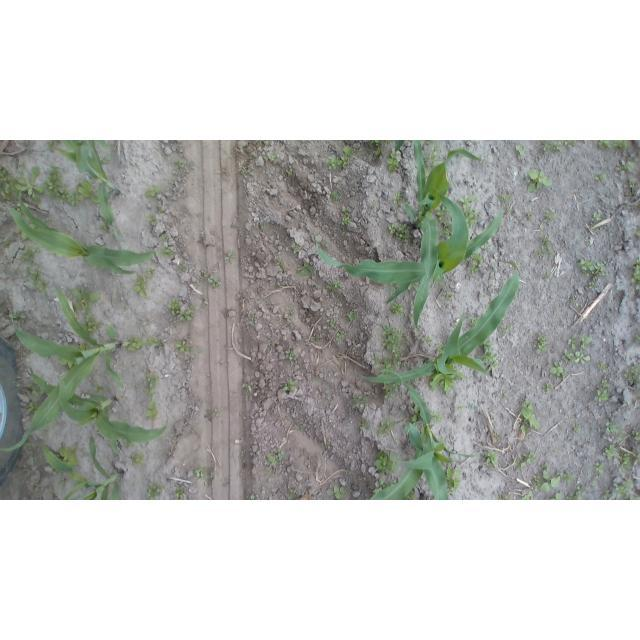Maize: (2, 285, 133, 453), (355, 260, 521, 384), (316, 208, 505, 304), (402, 140, 492, 332), (370, 369, 481, 500), (7, 186, 154, 274), (30, 368, 169, 443), (51, 141, 122, 226), (43, 436, 127, 500), (64, 480, 88, 500), (394, 141, 404, 152)
Weeds: (46, 164, 98, 204), (15, 166, 45, 203), (431, 371, 466, 395), (579, 259, 606, 290), (521, 398, 541, 435), (381, 325, 404, 357), (25, 267, 50, 294), (460, 195, 478, 229), (375, 450, 398, 476), (1, 167, 18, 201), (527, 170, 553, 192), (530, 233, 552, 259), (514, 450, 536, 474), (615, 479, 639, 500), (81, 301, 97, 332), (481, 340, 499, 367), (522, 475, 541, 500), (376, 417, 398, 438), (387, 223, 411, 241), (446, 467, 462, 494), (367, 140, 393, 156), (425, 141, 443, 164), (542, 470, 560, 492), (61, 444, 80, 464), (371, 355, 395, 370), (121, 337, 145, 352), (75, 290, 102, 303), (532, 334, 549, 354), (596, 377, 609, 403), (467, 253, 481, 275), (625, 364, 640, 384), (550, 362, 567, 379), (616, 160, 635, 175), (145, 373, 157, 396), (21, 248, 42, 261), (483, 451, 498, 469), (329, 155, 348, 169), (135, 275, 147, 297), (352, 396, 368, 412), (147, 483, 163, 499), (148, 336, 165, 351), (385, 153, 399, 171), (603, 443, 618, 459), (605, 420, 620, 436), (297, 263, 316, 275), (131, 452, 146, 467), (590, 211, 604, 227), (175, 341, 192, 354), (565, 487, 583, 499), (326, 486, 344, 498), (265, 453, 277, 470), (326, 279, 342, 291), (168, 298, 180, 314), (574, 352, 590, 364), (437, 206, 448, 223), (147, 401, 158, 418), (543, 209, 555, 224), (634, 254, 640, 284), (330, 187, 342, 202), (557, 471, 573, 482), (538, 141, 551, 154), (274, 447, 287, 460), (561, 349, 573, 363), (393, 191, 404, 206), (341, 212, 352, 227), (391, 303, 404, 315), (175, 485, 186, 499), (613, 140, 628, 150), (145, 187, 160, 197), (185, 307, 196, 320), (581, 335, 592, 348), (343, 145, 354, 157), (595, 173, 607, 184), (283, 380, 295, 391), (208, 277, 220, 288), (224, 249, 235, 261), (621, 454, 631, 467), (494, 494, 515, 500), (382, 384, 391, 398), (48, 141, 59, 152), (595, 462, 605, 474), (552, 142, 564, 152), (569, 335, 577, 350), (499, 320, 509, 332), (598, 141, 611, 150), (412, 408, 420, 422), (25, 388, 39, 396), (597, 361, 608, 371), (432, 413, 442, 424), (346, 312, 358, 321), (444, 223, 452, 236), (27, 402, 37, 412), (177, 265, 188, 274), (361, 417, 368, 431), (286, 349, 294, 361), (501, 194, 511, 203), (544, 382, 553, 392), (337, 330, 346, 340), (443, 292, 454, 300), (552, 493, 564, 500), (103, 155, 112, 164), (632, 431, 640, 441), (175, 159, 185, 167), (564, 140, 576, 146), (194, 469, 203, 477), (493, 432, 501, 441), (94, 384, 103, 392), (604, 489, 611, 499), (26, 441, 33, 451), (150, 211, 157, 221), (540, 462, 548, 470), (241, 166, 249, 174), (516, 146, 523, 155), (422, 337, 431, 344), (280, 263, 287, 272), (162, 247, 171, 254), (161, 234, 170, 241), (8, 313, 20, 318), (370, 200, 377, 208), (330, 318, 337, 326), (574, 426, 581, 433), (41, 429, 48, 436), (269, 155, 276, 162), (148, 269, 155, 276), (627, 179, 633, 187), (543, 274, 550, 280), (525, 212, 531, 218), (470, 319, 476, 325), (287, 171, 293, 177), (457, 406, 464, 411), (295, 245, 300, 252), (554, 448, 559, 455), (250, 319, 255, 326), (289, 309, 295, 314), (392, 383, 399, 387), (4, 243, 11, 247), (636, 333, 640, 340), (585, 237, 590, 242), (504, 392, 509, 397), (287, 319, 291, 325), (247, 386, 251, 391), (527, 382, 531, 387)
